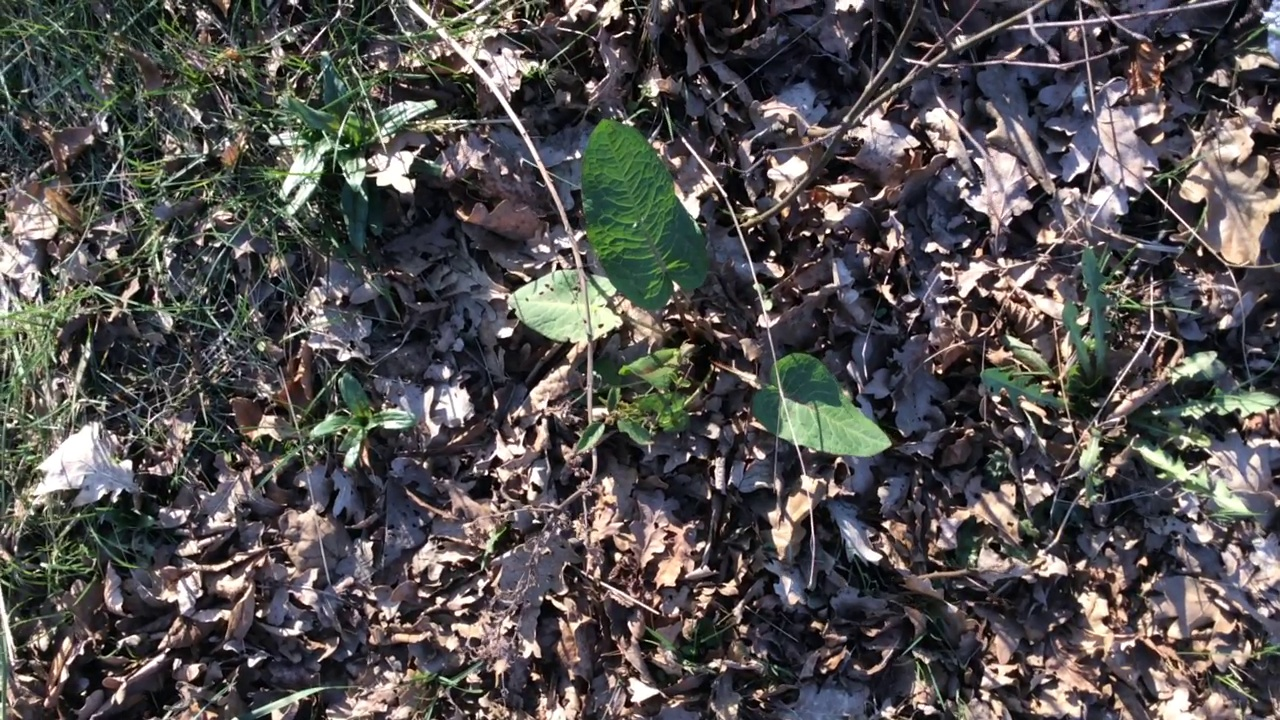rumex: (507, 118, 893, 458)
